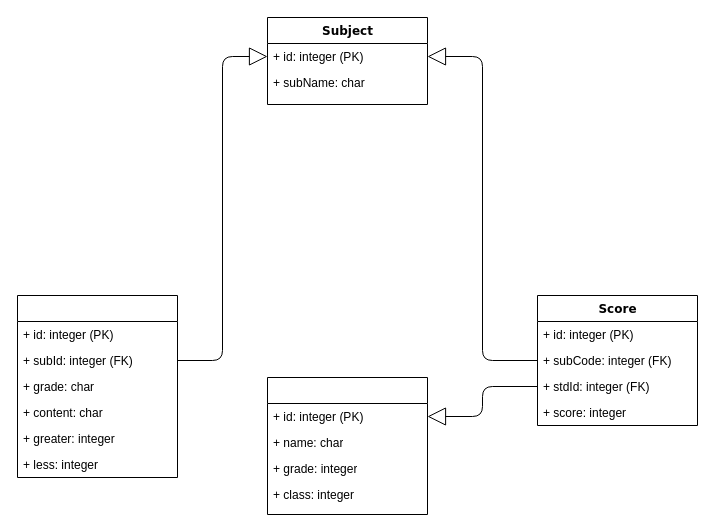
This 715x532 diagram has some shape labels left out. The shapes that lost their labels are listed below. From the top down, each one's box as (x1, y1, x2, y2) in pixels, then its label:
(16, 294, 178, 478): Assesment
(266, 376, 428, 514): Student
